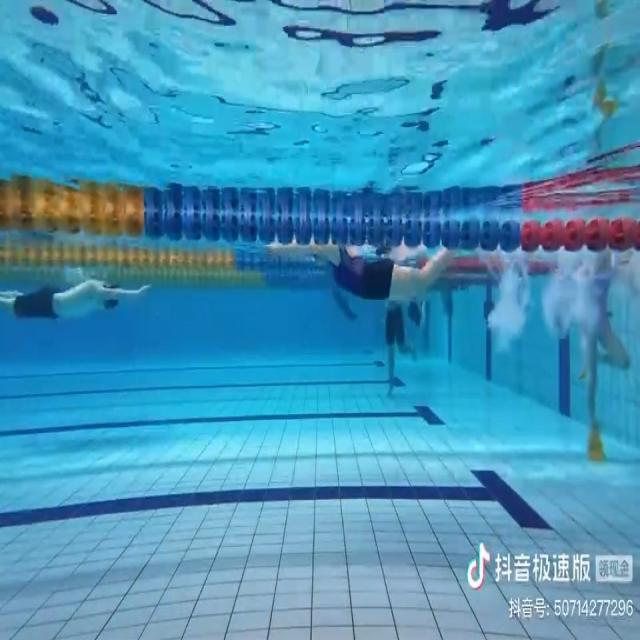Swimming: (578, 250, 630, 462), (268, 242, 461, 298), (0, 271, 155, 327)
